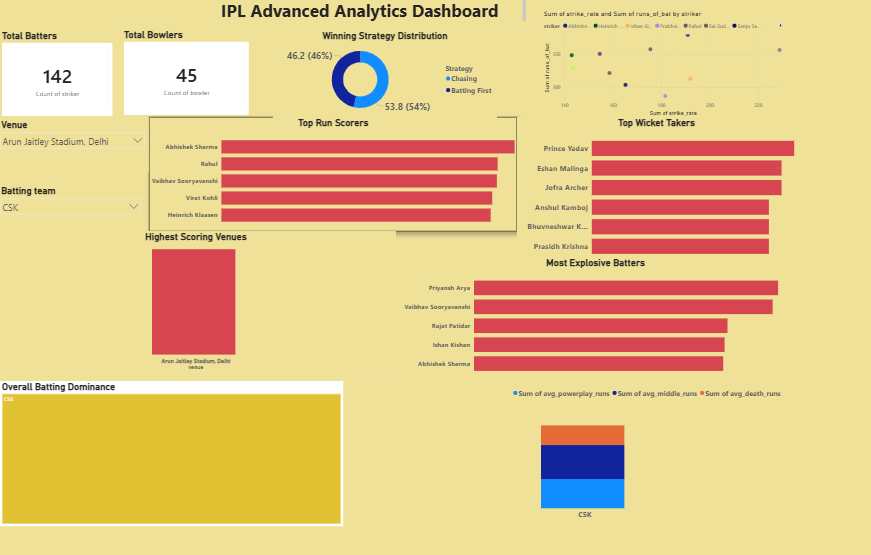

The page's visual inventory and layout, read from the dashboard file:
{"tool":"powerbi","page":{"name":"Page 1","canvas":[3000,2000],"ordinal":0},"visuals":[{"type":"textbox","box":[498,0,832,66],"z":2000},{"type":"cardVisual","title":"Total Batters","fields":{"Data":["CountNonNull(final_batter_analysis.striker)"]},"box":[10,82,286,220],"z":3000},{"type":"cardVisual","title":"Total Bowlers","fields":{"Data":["CountNonNull(bowling_analysis.bowler)"]},"box":[316,80,322,220],"z":4000},{"type":"clusteredBarChart","title":"Top Run Scorers","fields":{"Category":["final_batter_analysis.striker"],"Y":["Sum(final_batter_analysis.runs_of_bat)"]},"box":[382,300,920,286],"z":5000},{"type":"clusteredBarChart","title":"Top Wicket Takers","fields":{"Category":["bowling_analysis.bowler"],"Y":["Sum(bowling_analysis.wickets)"]},"box":[1302,300,698,368],"z":6000},{"type":"clusteredColumnChart","title":"Highest Scoring Venues","fields":{"Category":["venue_average_scores.venue"],"Y":["Sum(venue_average_scores.avg_runs)"]},"box":[0,586,1000,352],"z":7000},{"type":"donutChart","title":"Winning Strategy Distribution","fields":{"Category":["match_strategy_analysis.Strategy"],"Y":["Sum(match_strategy_analysis.Win Percentage)"]},"box":[692,82,560,220],"z":8000},{"type":"columnChart","fields":{"Category":["phase_analysis.batting_team"],"Y":["Sum(phase_analysis.avg_powerplay_runs)","Sum(phase_analysis.avg_middle_runs)","Sum(phase_analysis.avg_death_runs)"]},"box":[972.5,967.5,1000,350],"z":9000},{"type":"scatterChart","fields":{"X":["Sum(final_batter_analysis.strike_rate)"],"Y":["Sum(final_batter_analysis.runs_of_bat)"],"Series":["final_batter_analysis.striker"]},"box":[1366,32,616,270],"z":10000},{"type":"slicer","fields":{"Values":["phase_analysis.batting_team"]},"box":[0,466,372,120],"z":11000},{"type":"slicer","fields":{"Values":["venue_average_scores.venue"]},"box":[0,300,382,136],"z":12000},{"type":"clusteredBarChart","title":"Most Explosive Batters","fields":{"Category":["final_batter_analysis.striker"],"Y":["Sum(final_batter_analysis.strike_rate)"]},"box":[1016,650,968,310],"z":13000},{"type":"treemap","title":"Overall Batting Dominance","fields":{"Group":["phase_analysis.batting_team"],"Values":["Sum(phase_analysis.total_phase_runs)"]},"box":[10,960,857.5,362.5],"z":14000}]}

Visuals, with their boxes on the page's 3000x2000 design canvas (x1, y1, x2, y2). These are canvas units, not pixel positions in the 871x555 screenshot, which may show the page scaled, cropped or inside an application window:
textbox: BBox(498, 0, 1330, 66)
"Total Batters" cardVisual: BBox(10, 82, 296, 302)
"Total Bowlers" cardVisual: BBox(316, 80, 638, 300)
"Top Run Scorers" clusteredBarChart: BBox(382, 300, 1302, 586)
"Top Wicket Takers" clusteredBarChart: BBox(1302, 300, 2000, 668)
"Highest Scoring Venues" clusteredColumnChart: BBox(0, 586, 1000, 938)
"Winning Strategy Distribution" donutChart: BBox(692, 82, 1252, 302)
columnChart - phase_analysis.batting_team x Sum(phase_analysis.avg_powerplay_runs): BBox(972, 968, 1972, 1318)
scatterChart - Sum(final_batter_analysis.strike_rate) x Sum(final_batter_analysis.runs_of_bat): BBox(1366, 32, 1982, 302)
slicer - phase_analysis.batting_team: BBox(0, 466, 372, 586)
slicer - venue_average_scores.venue: BBox(0, 300, 382, 436)
"Most Explosive Batters" clusteredBarChart: BBox(1016, 650, 1984, 960)
"Overall Batting Dominance" treemap: BBox(10, 960, 868, 1322)
